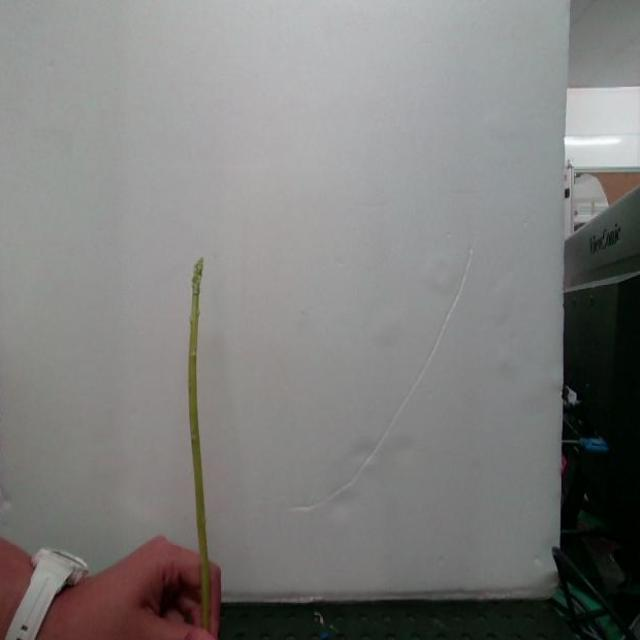aspargus: (191, 259, 215, 635)
